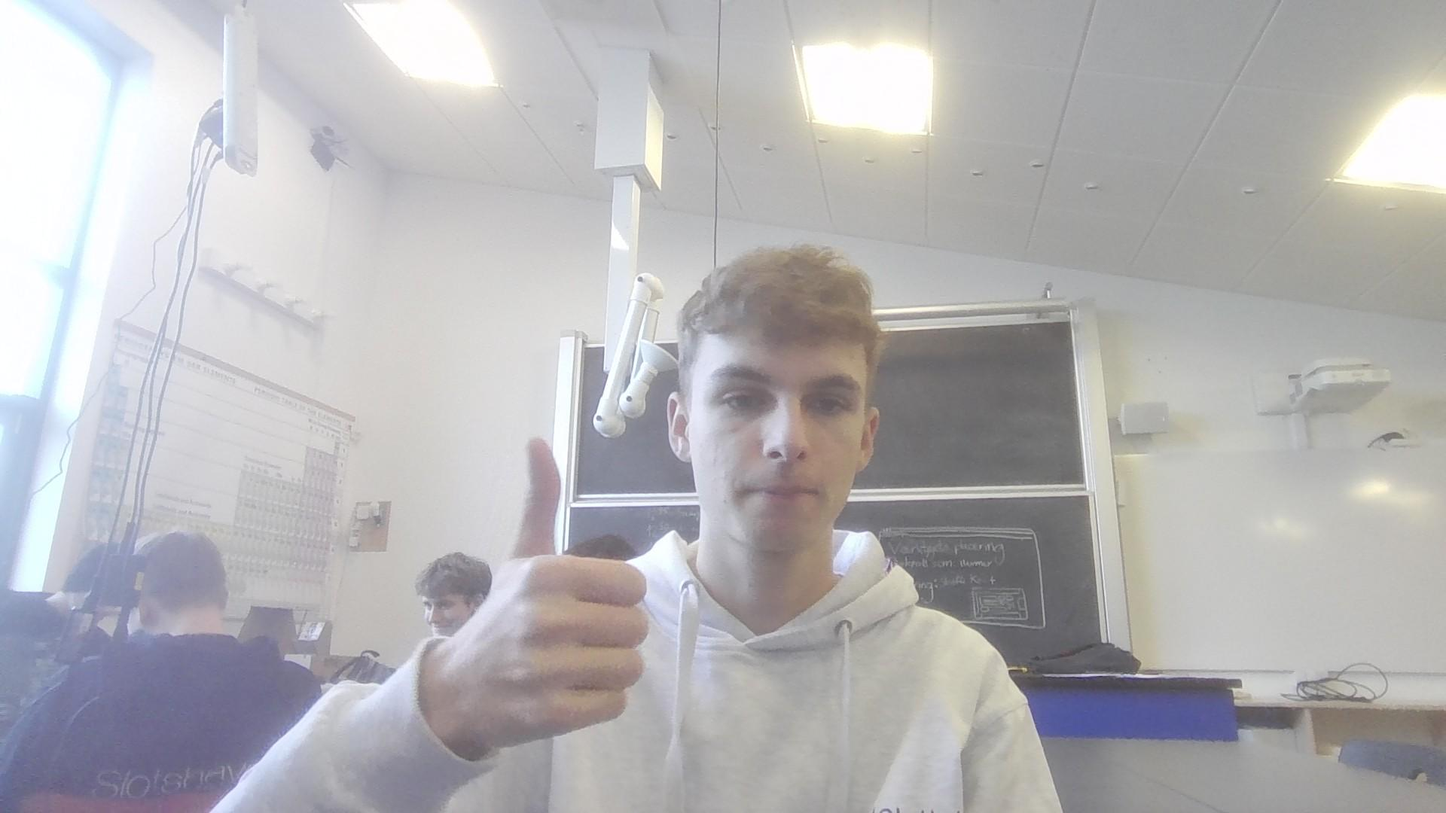thumbs up: (412, 428, 653, 756)
